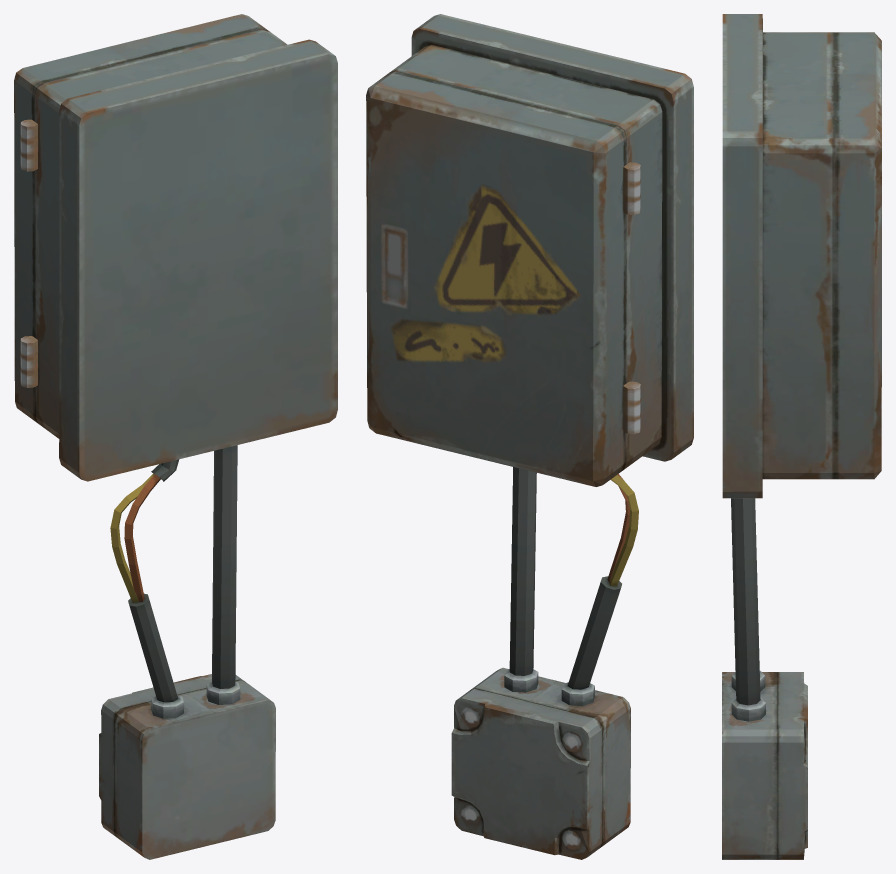
File: P_Facility_00180.obj
3 renders of one model, left to right at view 1: azimuth 30°, elevation 25°; view 2: azimuth 150°, elevation 25°; view 3: azimuth 270°, elevation 25°, orthographic.
Size of the model in its own units: 0.4225 by 1.18 by 0.2252.
1 material, 1 textured.
